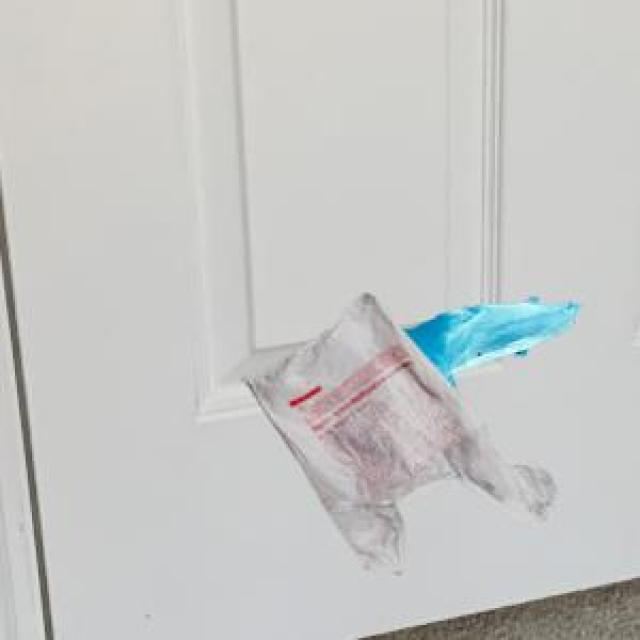plastic: (211, 240, 592, 582)
